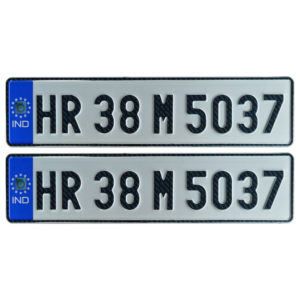inlp: (3, 151, 298, 227), (3, 75, 296, 148)
